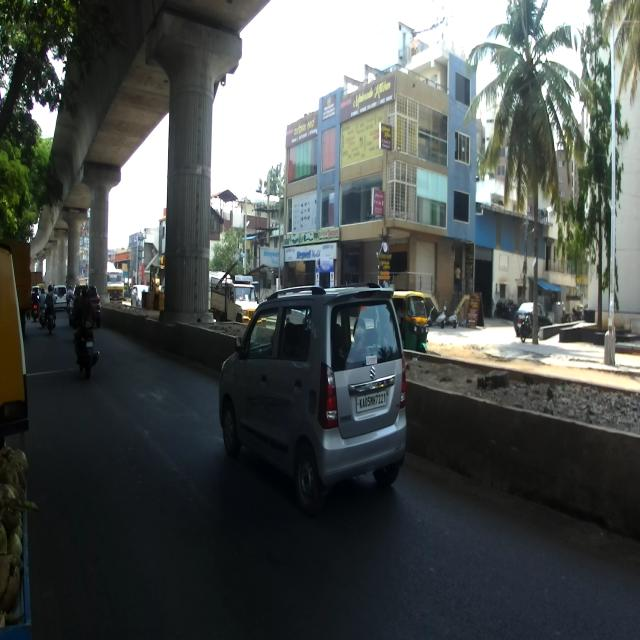car ahead at: (218, 281, 414, 497)
